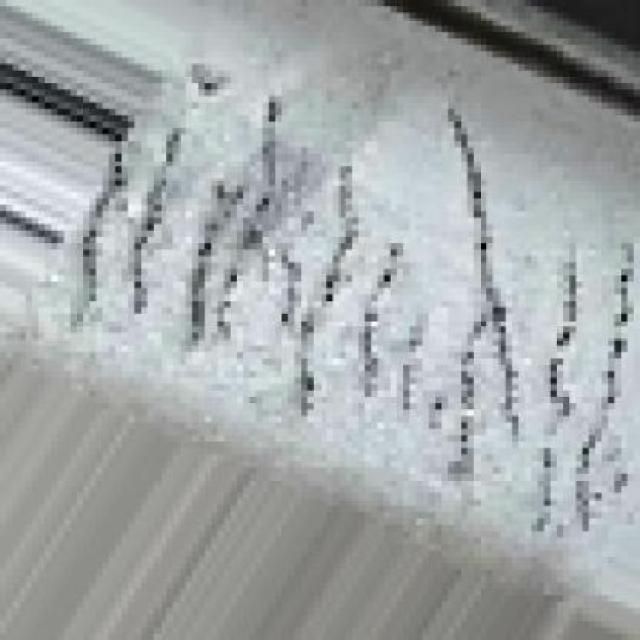defective: (6, 1, 640, 554)
